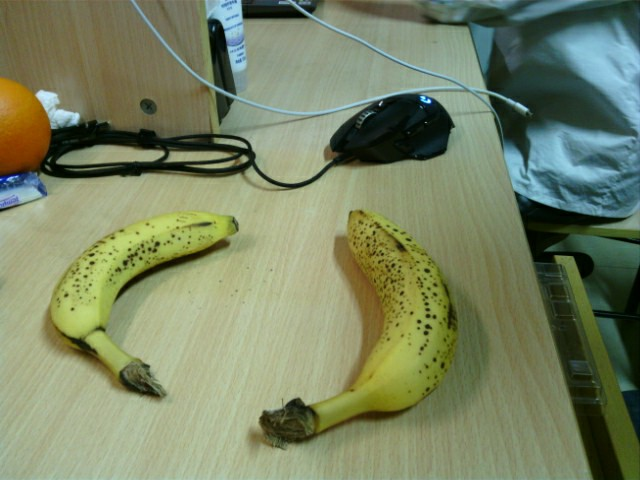normal_banana: (261, 208, 457, 450), (50, 209, 239, 397)
